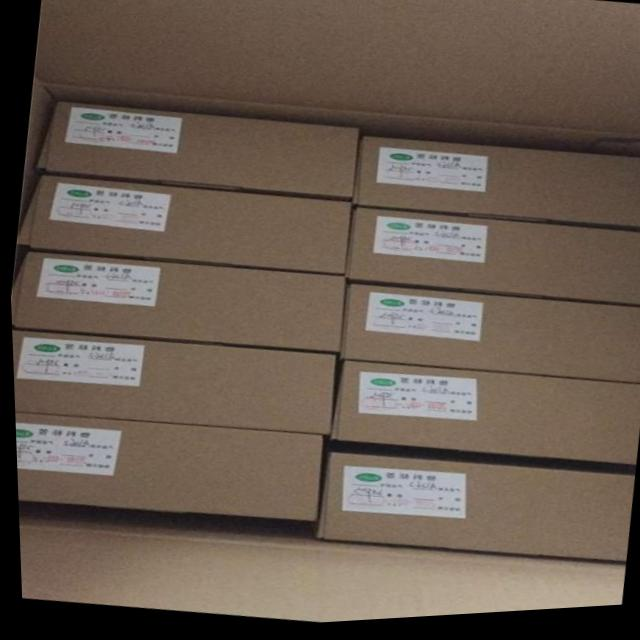box: (10, 327, 332, 440), (9, 252, 347, 358), (311, 458, 631, 569), (12, 411, 318, 526), (16, 173, 349, 277), (34, 100, 355, 207), (331, 364, 640, 473), (340, 287, 640, 392), (345, 209, 640, 313), (350, 140, 640, 234)
